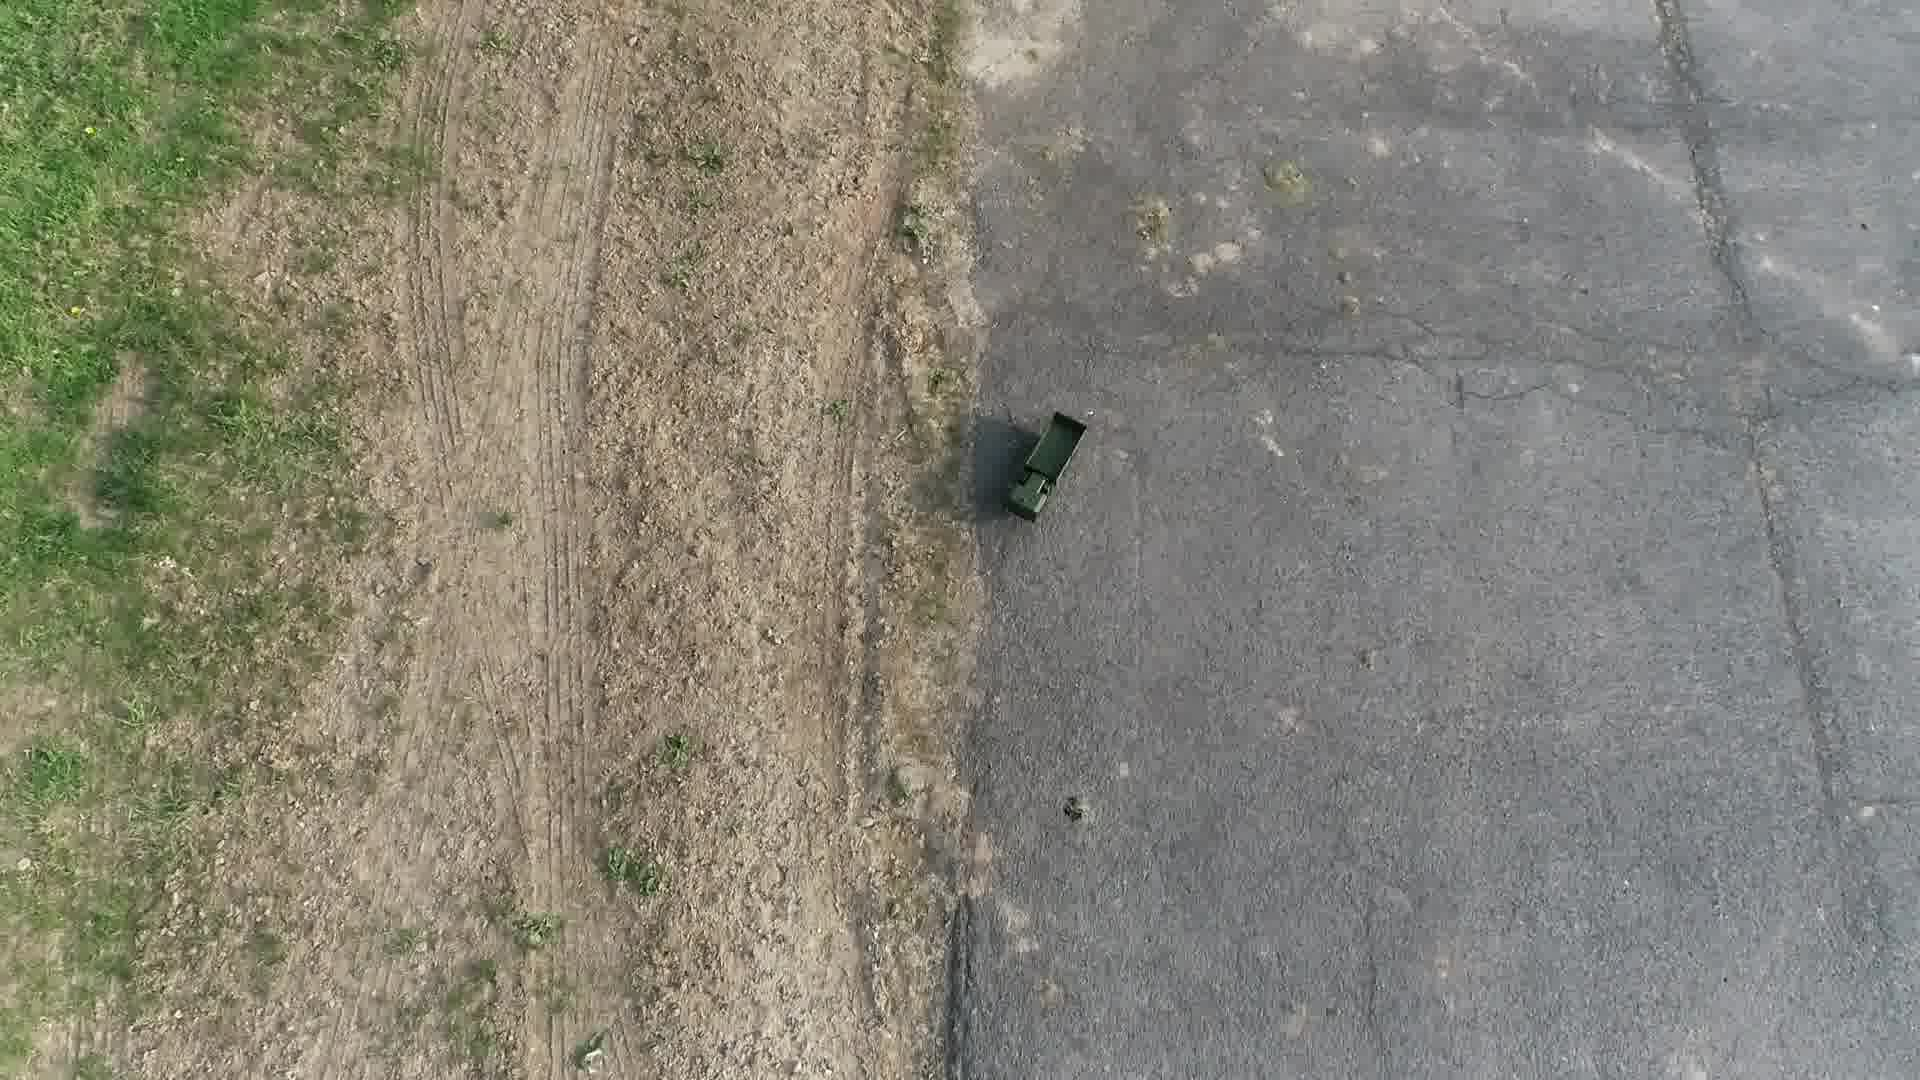transporter9: (996, 404, 1091, 525)
